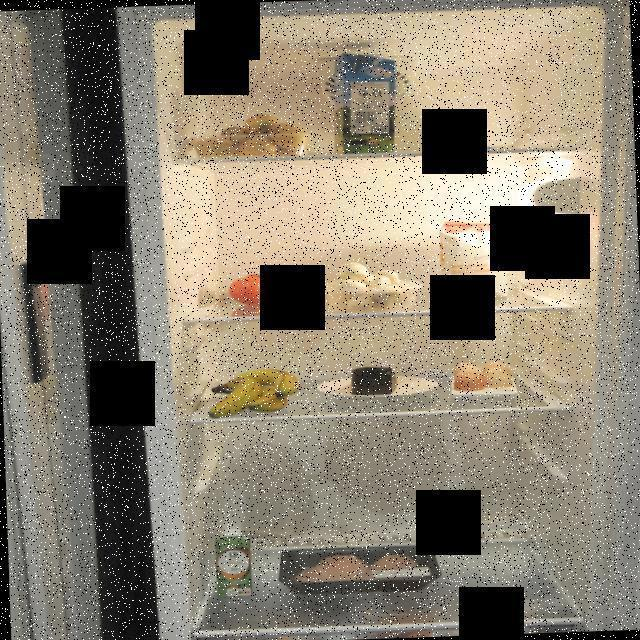banana: (206, 363, 306, 422)
cheese: (348, 364, 399, 398)
chicken_breast: (272, 541, 447, 598)
chocolate: (418, 144, 496, 154)
egg: (451, 359, 516, 398)
heavy_cream: (213, 526, 257, 600)
milk: (328, 48, 401, 157)
mushrooms: (319, 253, 421, 312)
potato: (182, 110, 312, 160)
sugar: (434, 216, 516, 304)
tomato: (225, 255, 318, 308)
